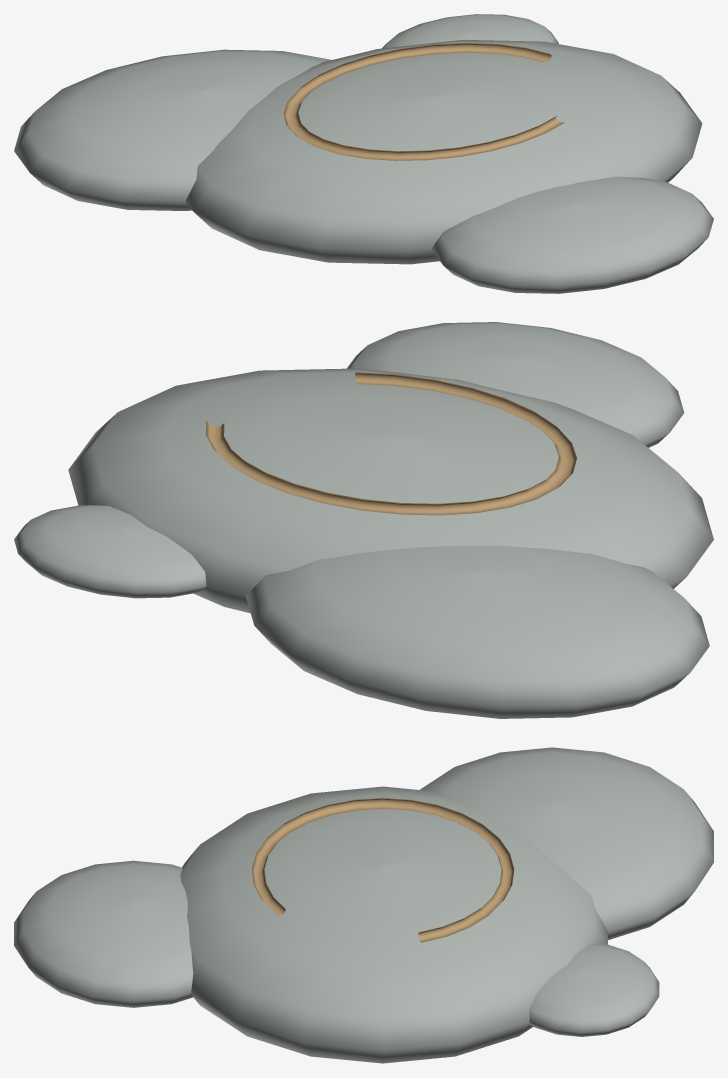
File: ceramic-waystone.glb
3 views of the same model, one above another, from view 1: azimuth 30°, elevation 25°; view 2: azimuth 150°, elevation 25°; view 3: azimuth 270°, elevation 25° (orthographic). The views are drawn at different scales.
Parts seen in each view (by area): view 1: ceramic-waystone; view 2: ceramic-waystone; view 3: ceramic-waystone.
Boxes of the visible parts, <box> form: ceramic-waystone: <box>14,14,713,293</box>; ceramic-waystone: <box>14,322,713,718</box>; ceramic-waystone: <box>14,747,713,1063</box>.
Size of the model in its own units: 0.7491 by 0.1408 by 0.7547.
